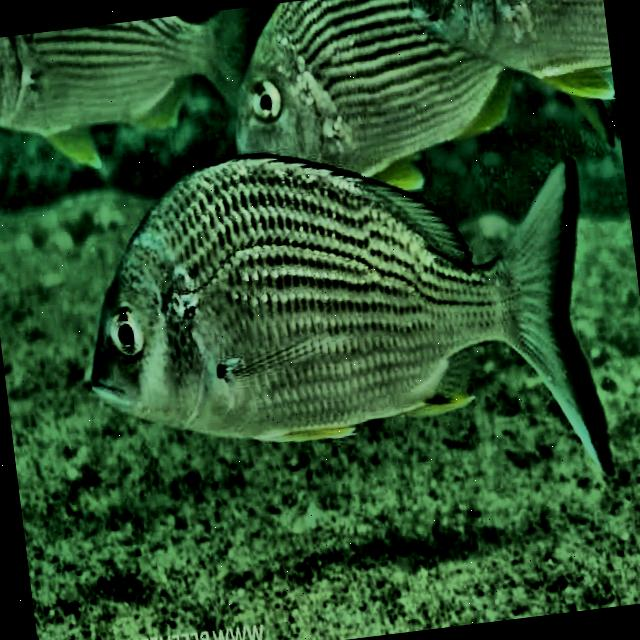fish: (63, 116, 615, 522), (233, 0, 615, 201), (0, 5, 277, 178), (399, 0, 616, 152)
